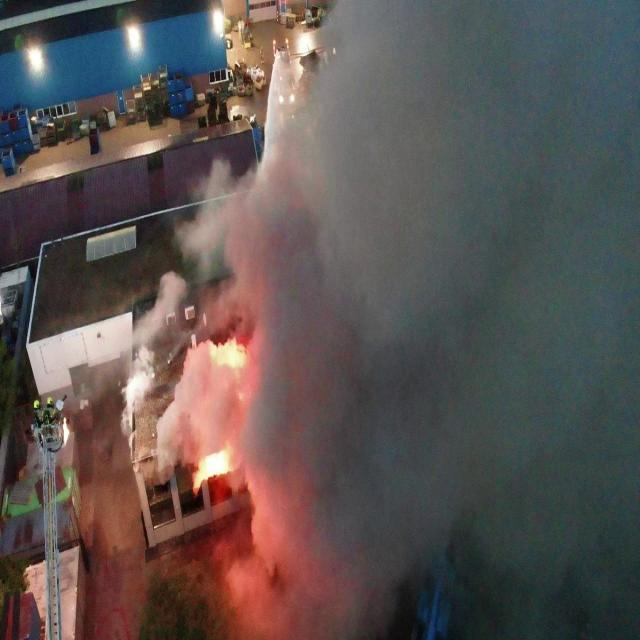Fire: (218, 343, 245, 369), (206, 452, 230, 477)
Smoke: (122, 0, 639, 636)
